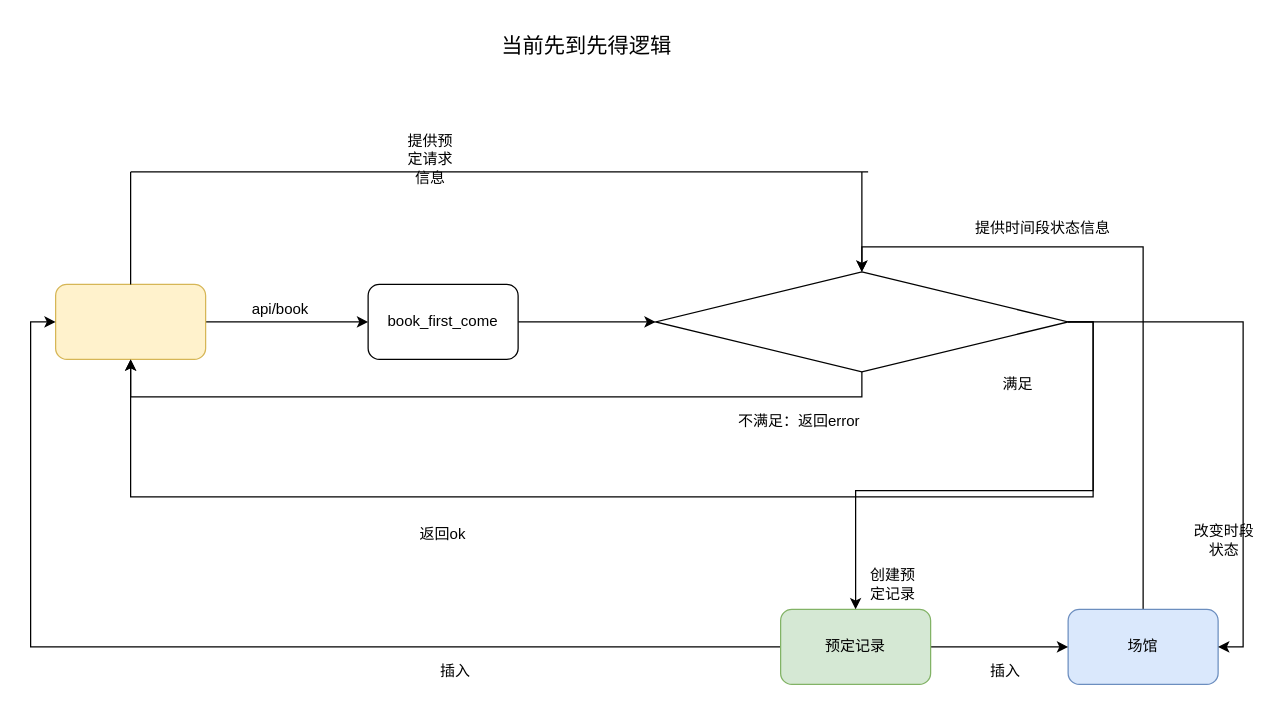
The diagram is 1278 pixels wide and 706 high, and some of its shapes have lost their labels. Here are the shapes that lost their labels. From the top down, the box of each, then its label:
(54, 283, 206, 359): 用户
(654, 271, 1068, 372): 判断：对应时间段场馆状态正确 and 当前无人预定
